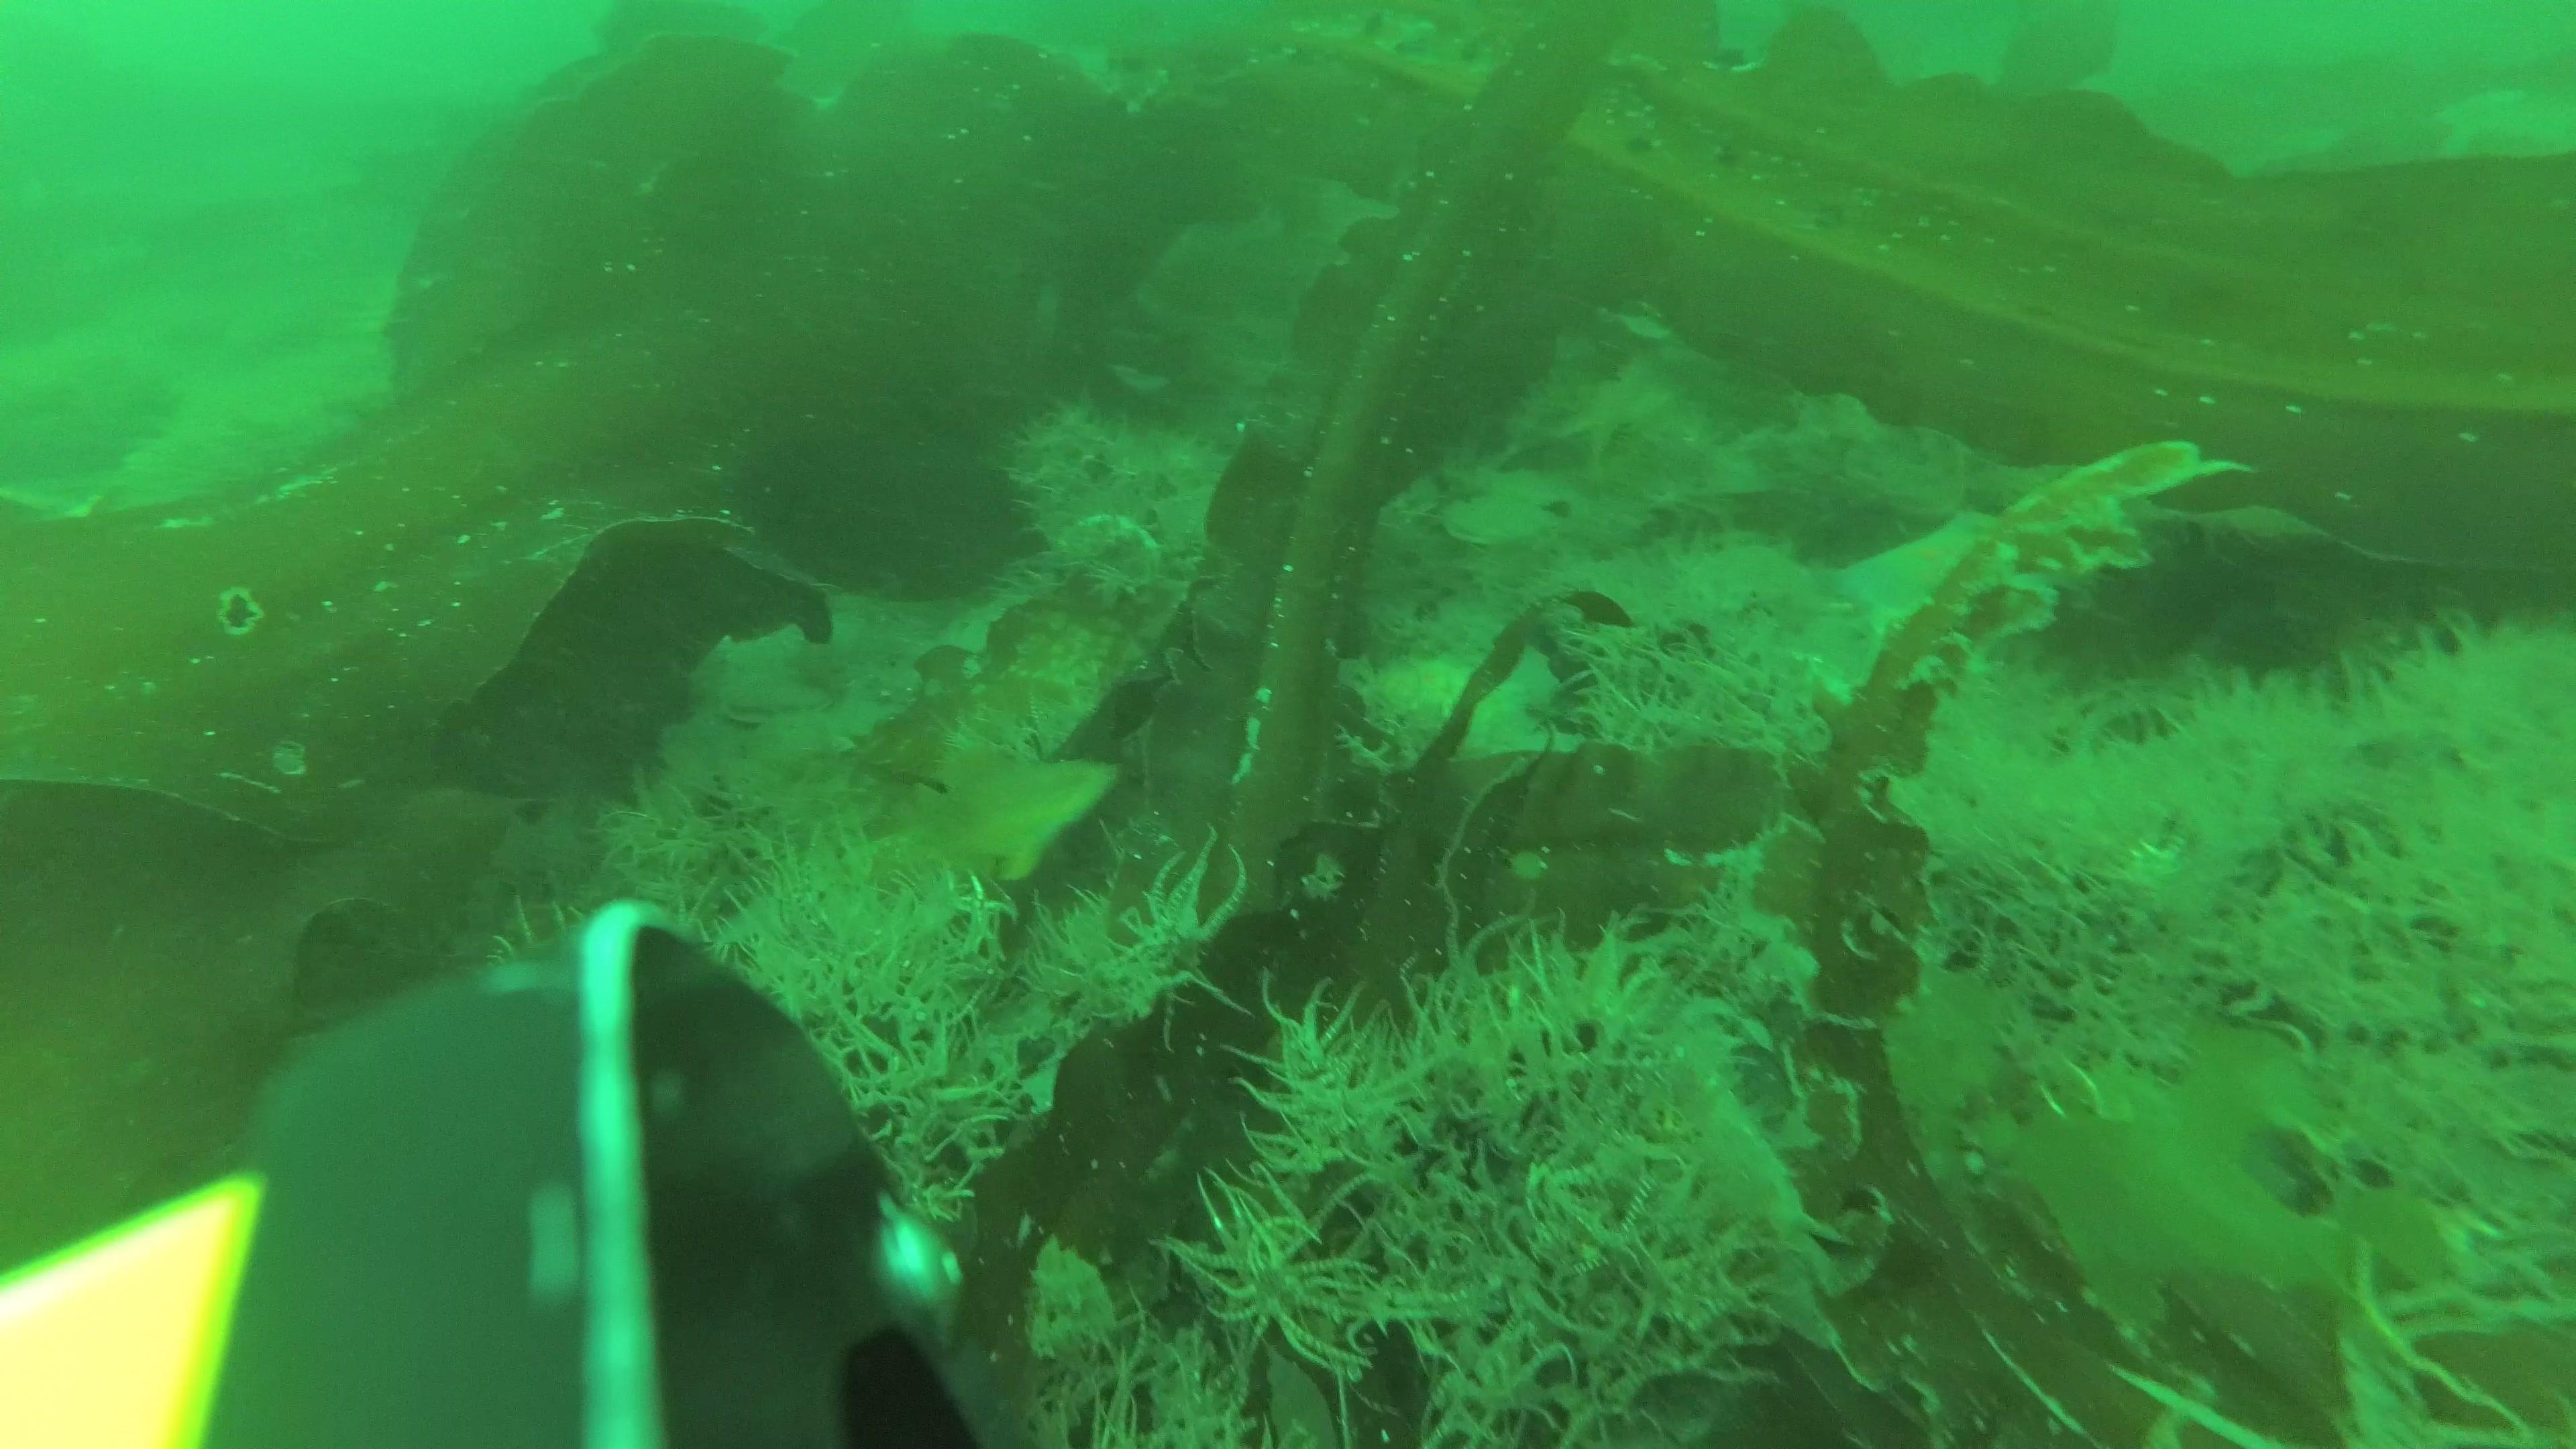starfish: (1847, 510, 2043, 665)
